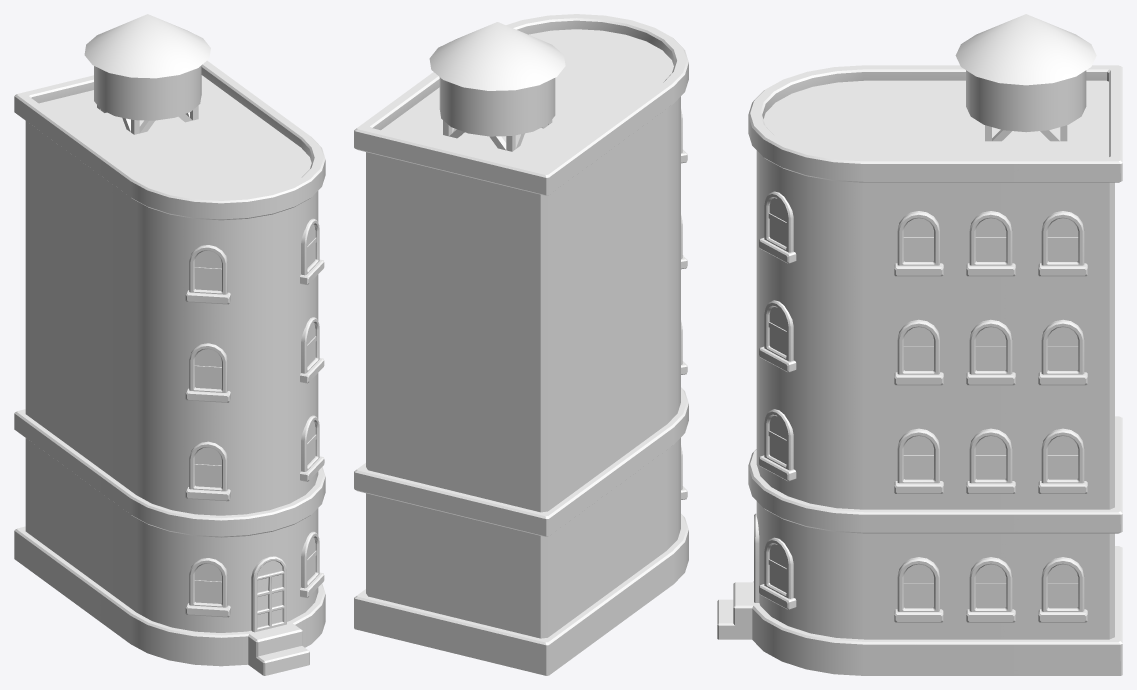
Rendered from House_12.fbx.
3 views of the same model, side by side, from view 1: azimuth 30°, elevation 25°; view 2: azimuth 150°, elevation 25°; view 3: azimuth 270°, elevation 25° (orthographic). The views are drawn at different scales.
Visible parts, largest first — view 1: House_12; view 2: House_12; view 3: House_12.
Boxes of the visible parts, x1,y1,x2,y2 form: House_12: [14, 14, 325, 675]; House_12: [354, 14, 688, 675]; House_12: [717, 14, 1122, 675].
Bounding box in the file's own units: 389 × 1127 × 675.
